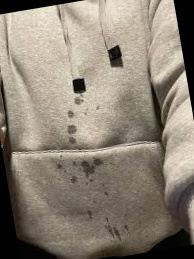oil: (100, 221, 133, 243), (78, 156, 104, 178), (68, 97, 87, 112), (64, 125, 78, 145), (90, 104, 103, 120), (65, 110, 77, 124), (85, 207, 93, 220), (68, 175, 78, 184), (55, 164, 62, 172), (100, 189, 107, 197), (60, 154, 68, 160)
